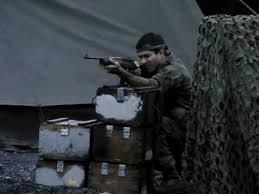rifle: (81, 52, 145, 80)
